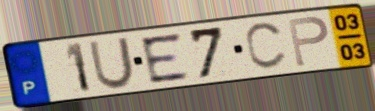1: (65, 40, 93, 96)
7: (188, 24, 226, 81)
C: (243, 20, 289, 72)
E: (137, 30, 193, 86)
P: (285, 14, 332, 69)
U: (87, 35, 137, 91)
